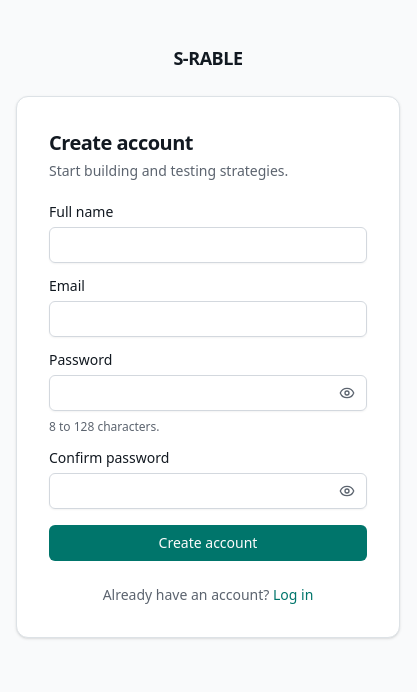
Test case: RegisterPage › validates with the backend limits before sending
In the field labelled "Full name": (208, 245) [49,227,367,263], type "A"
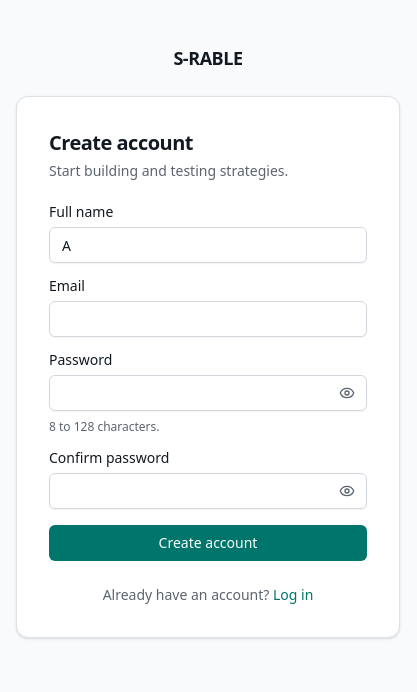
In the field labelled "Email": (208, 319) [49,301,367,337], type "bad"
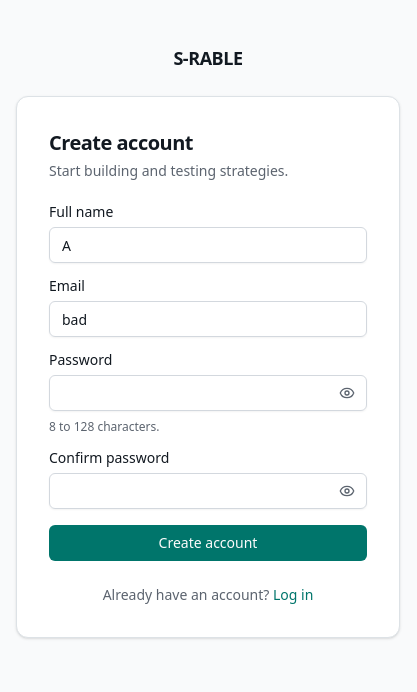
In the password field labelled "Password": (208, 393) [49,375,367,411], type "short"
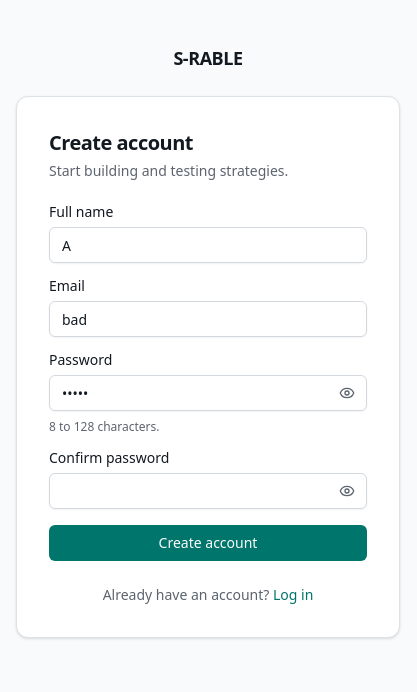
In the password field labelled "Confirm password": (208, 491) [49,473,367,509], type "other"
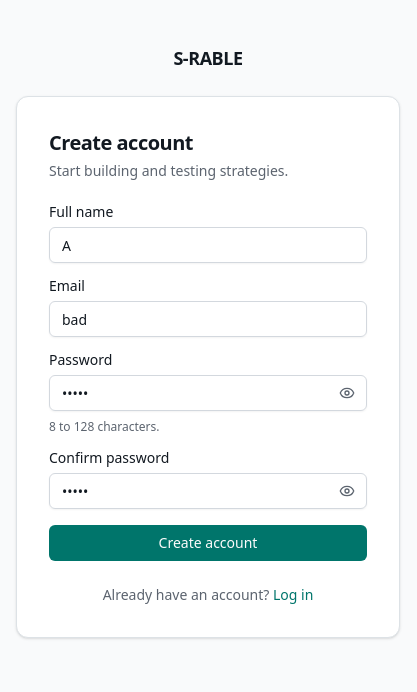
Click the button "Create account": (208, 543) [49,525,367,561]
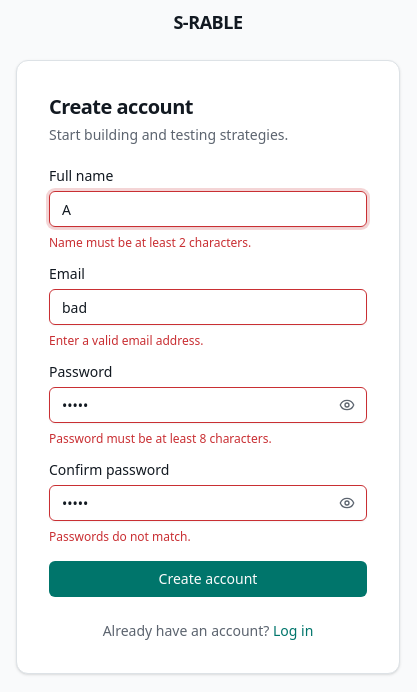
Now the text "Name must be at least 2 characters." is shown, box [49,234,251,251]
Now the text "Enter a valid email address." is shown, box [49,332,203,349]
Now the text "Password must be at least 8 characters." is shown, box [49,430,272,447]
